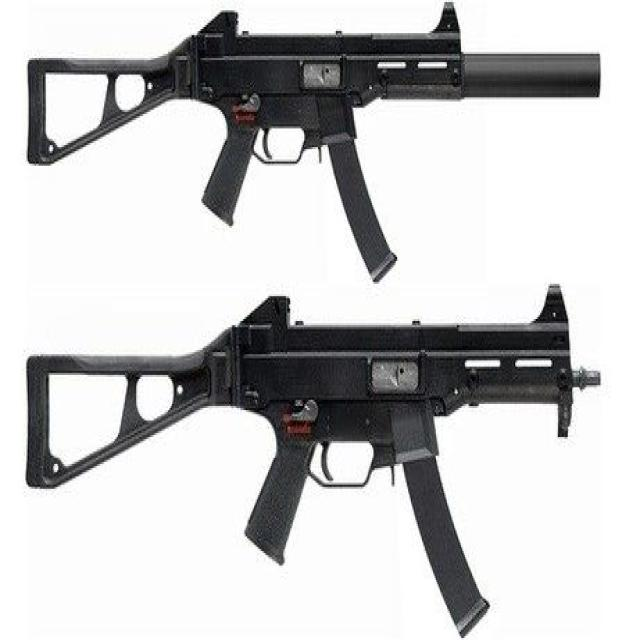SMG: (24, 286, 600, 640), (26, 8, 601, 282)
